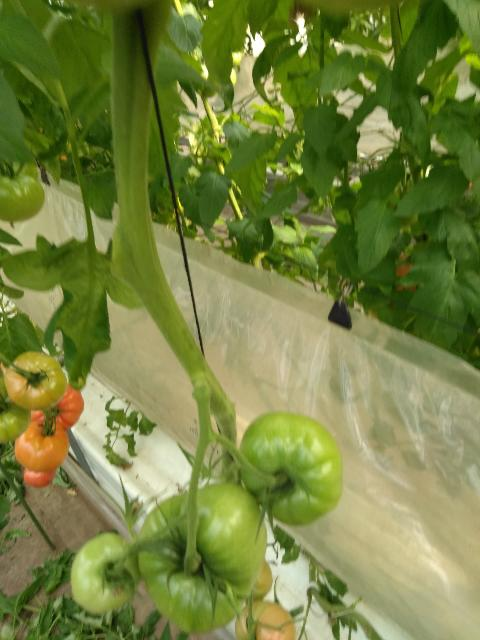b_green: (136, 482, 269, 633), (238, 411, 343, 527), (70, 534, 143, 615), (1, 175, 45, 222), (0, 377, 31, 442)
b_half_ripened: (4, 352, 67, 411), (15, 420, 70, 472), (30, 382, 85, 431), (235, 600, 295, 640), (243, 559, 273, 602), (23, 467, 57, 488)
